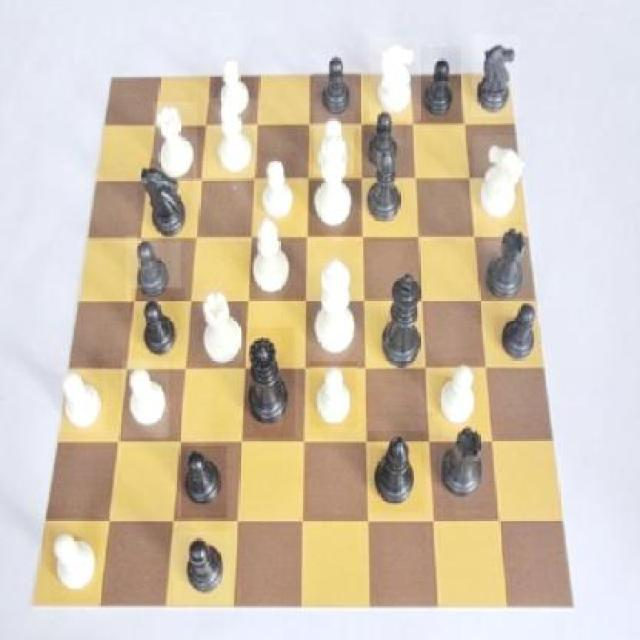bishop: (368, 431, 424, 513), (364, 140, 408, 229)
black-bishop: (378, 264, 428, 372)
black-king: (138, 158, 194, 240), (472, 35, 520, 118)
black-knight: (174, 530, 231, 604), (130, 289, 184, 360), (126, 235, 180, 303), (418, 48, 461, 128), (182, 446, 228, 519), (494, 298, 541, 368), (314, 49, 360, 119), (364, 111, 408, 171)
black-pawn: (244, 328, 296, 438)
black-queen: (437, 416, 493, 508), (482, 223, 534, 300)
black-rook: (208, 99, 258, 176), (249, 210, 293, 294)
white-bishop: (308, 258, 363, 361)
white-king: (472, 137, 528, 225), (369, 36, 420, 120)
white-knight: (51, 523, 100, 602), (122, 358, 168, 438), (55, 368, 108, 434), (310, 363, 358, 429), (256, 152, 300, 222), (436, 358, 480, 428), (314, 110, 354, 174), (216, 54, 254, 118)
white-pawn: (309, 131, 360, 237)
white-queen: (197, 286, 248, 367), (154, 102, 198, 179)
